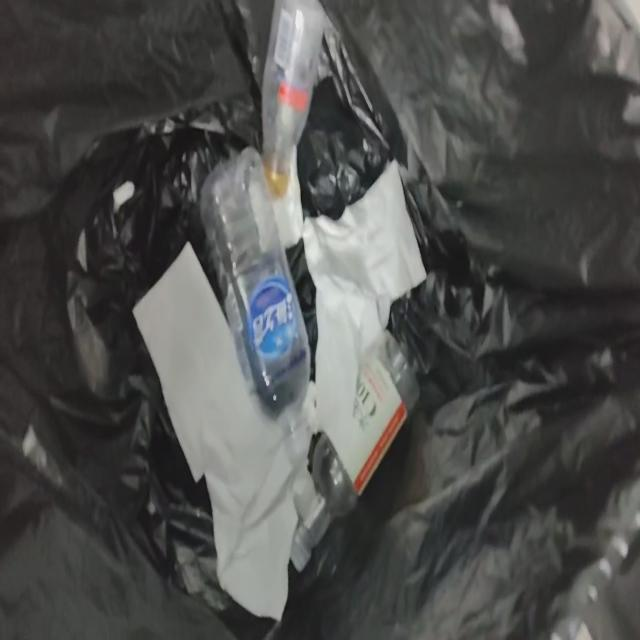bottle: (198, 147, 311, 467), (290, 331, 421, 573), (262, 0, 334, 196)
paper: (133, 243, 316, 620), (302, 161, 425, 459), (272, 148, 303, 248), (302, 383, 320, 435)
